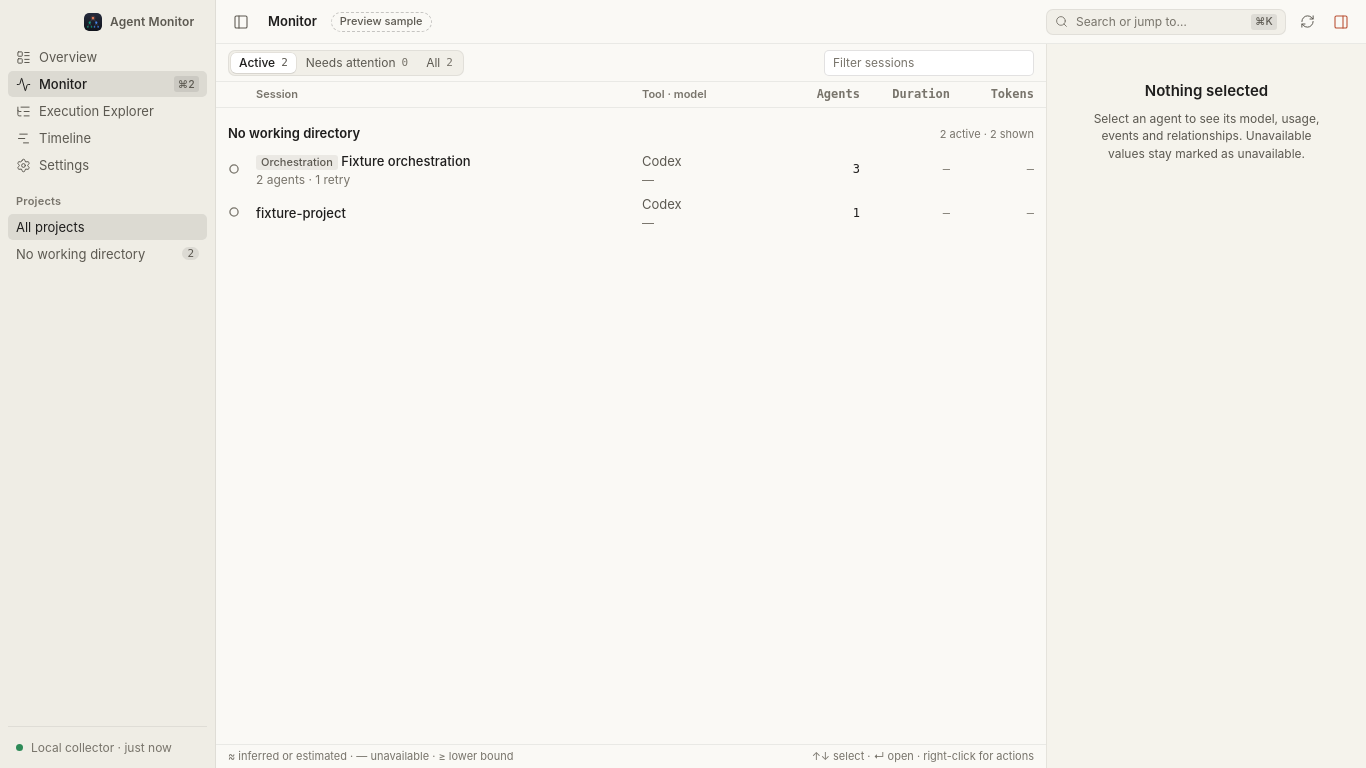
Scenario: App (orchestration explorer) › lists orchestrations apart from plain sessions, each entry saying what it is
This screenshot has width=1366, height=768.
Expected: the text "Fixture orchestration" is shown, [341, 153, 471, 169]
Click the button "Execution Explorer" at (108, 111), box [8, 98, 207, 124]
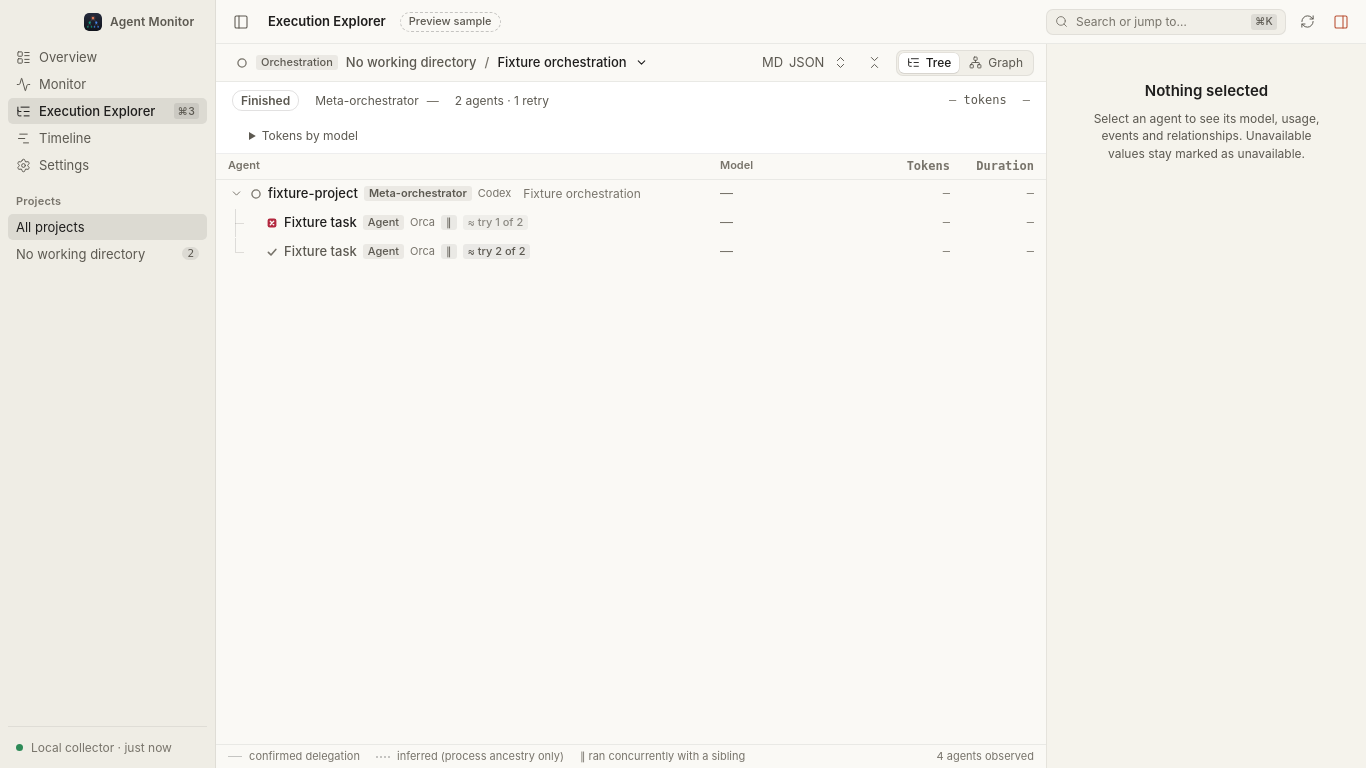
Click the button "Orchestration No working directory / Fixture orchestration" at (442, 62), box [228, 50, 656, 76]
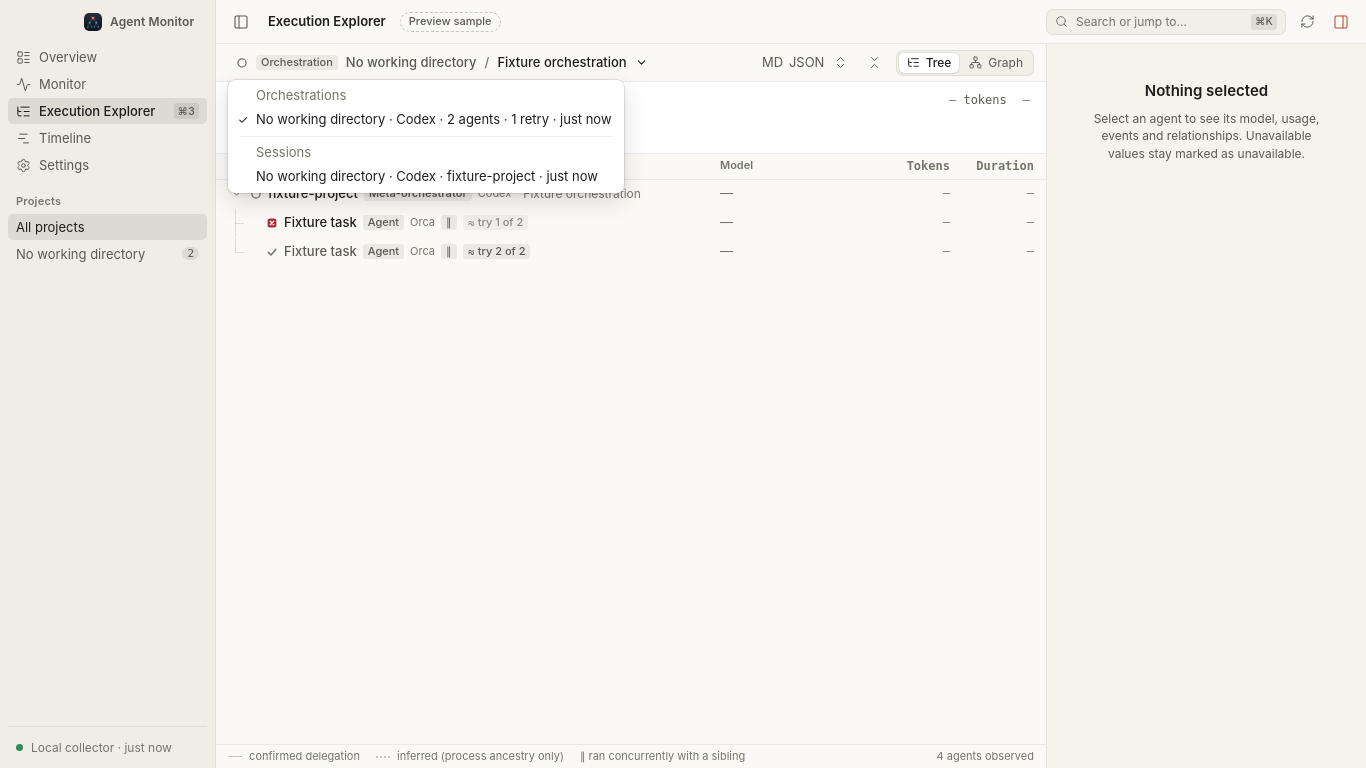
Now the text "Orchestrations" is shown, box [256, 87, 346, 103]
